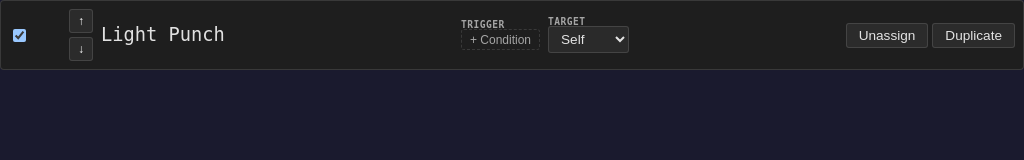
it: SkillRow - Target Self Hides Selector and Filter › dynamic target changes › changing target from self to enemy restores SELECTOR and FilterControls
The image size is (1024, 160).
Expected: the text "SELECTOR" is not shown
Select "Enemy" in the dropdown named "target for light punch": (588, 40) x1=548 y1=26 x2=629 y2=53
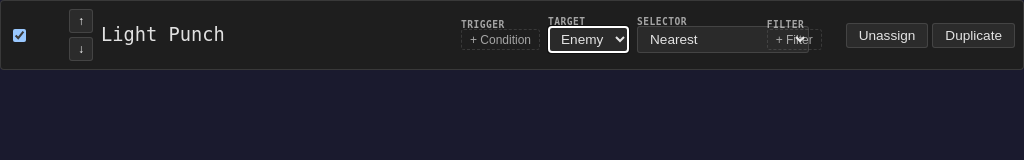
Result: the text "SELECTOR" is shown at x1=637 y1=17 x2=687 y2=26
Result: the text "FILTER" is shown at x1=767 y1=20 x2=804 y2=29
Result: the dropdown named "criterion for light punch" is shown at x1=637 y1=26 x2=809 y2=53
